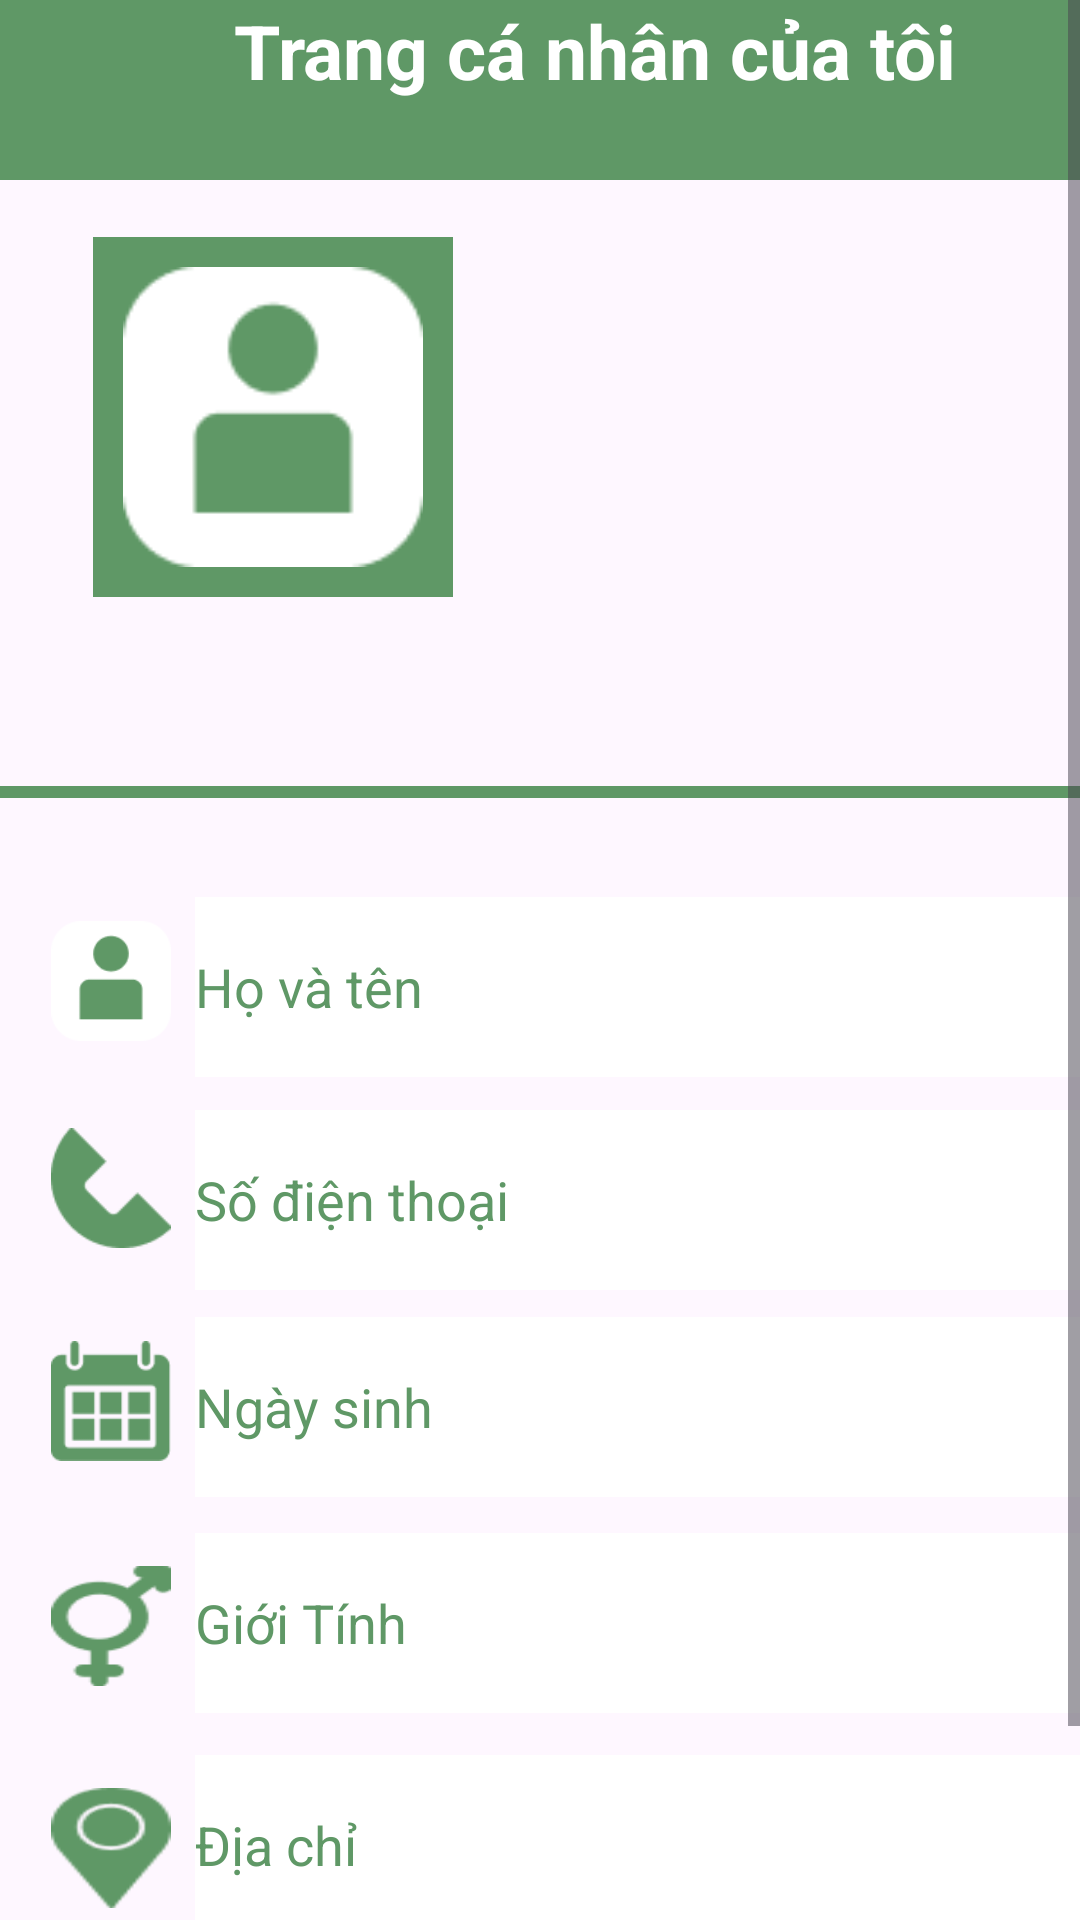

Named icons in this screenshot (1080w x 1920h) and their bounding boxes, [x1=x1, y1=y1, x2=x2, y2=y2]:
birth: [x1=51, y1=1341, x2=170, y2=1461]
gen: [x1=51, y1=1566, x2=171, y2=1686]
location: [x1=51, y1=1788, x2=171, y2=1908]
phone: [x1=51, y1=1128, x2=171, y2=1248]
self: [x1=123, y1=267, x2=423, y2=567], [x1=79, y1=935, x2=143, y2=1020]
